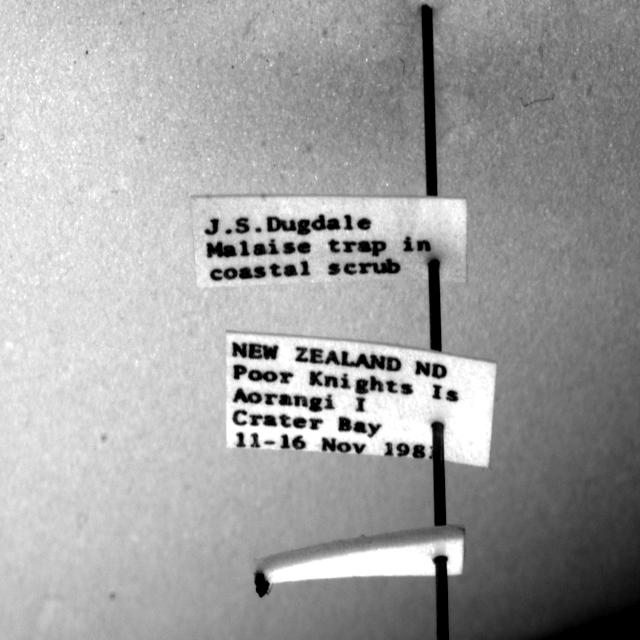typed_label: (226, 332, 496, 467), (192, 197, 466, 287)
